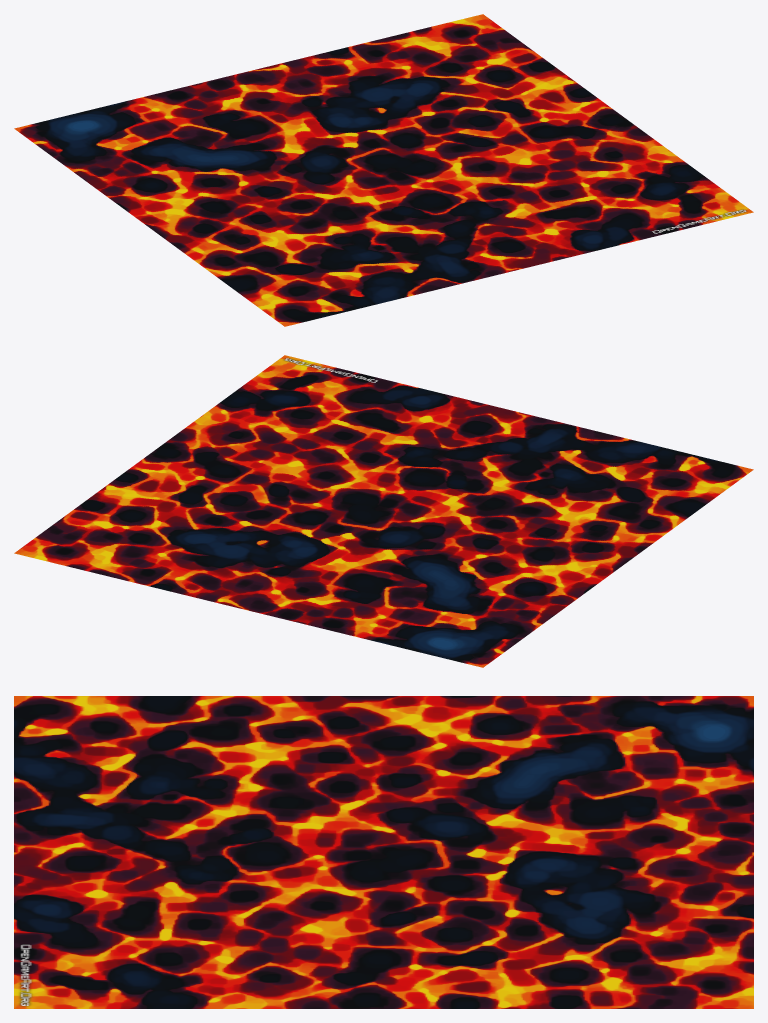
The model's file is lava_plane.obj.
3 renders of one model, top to bottom at view 1: azimuth 30°, elevation 25°; view 2: azimuth 150°, elevation 25°; view 3: azimuth 270°, elevation 25°, orthographic. The views are drawn at different scales.
Visible parts, largest first — view 1: Plane; view 2: Plane; view 3: Plane.
Boxes of the visible parts, x1,y1,x2,y2 form: Plane: (14, 14, 753, 326); Plane: (14, 355, 753, 667); Plane: (14, 696, 753, 1008).
Size of the model in its own units: 2 by 0 by 2.
Materials: 1 (1 with a texture image).
